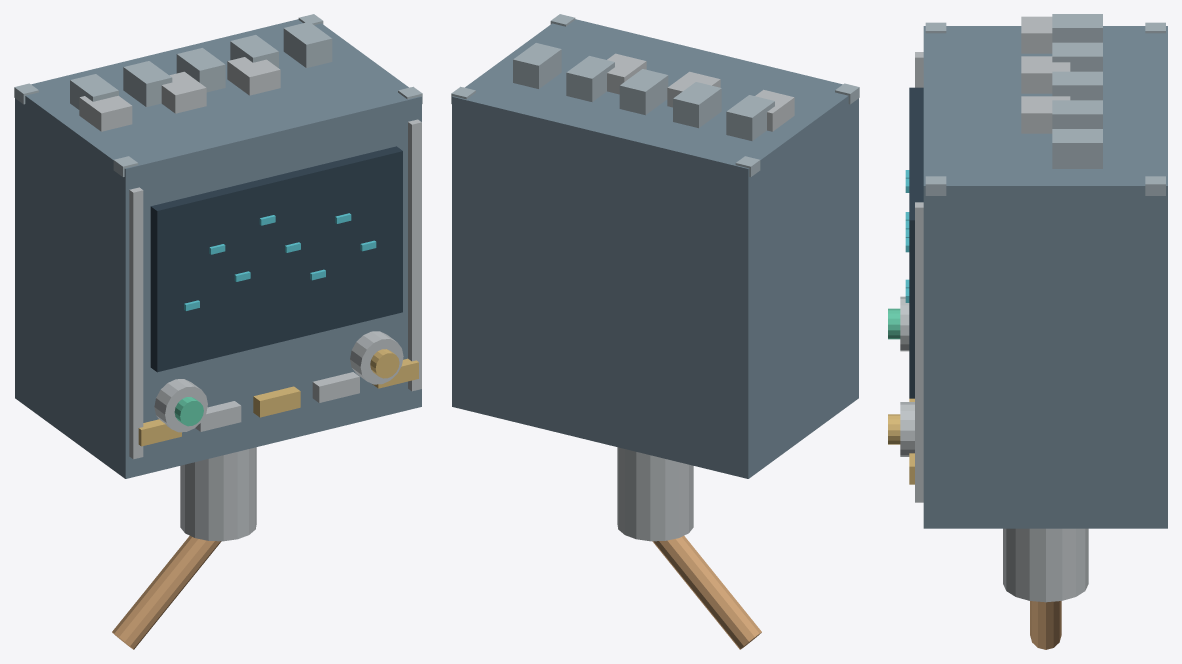
Rendered from 32_L76_BathConductivitySensor.glb.
The picture shows the model from 3 angles, left to right: view 1: azimuth 30°, elevation 25°; view 2: azimuth 150°, elevation 25°; view 3: azimuth 270°, elevation 25°; orthographic projection. The views are drawn at different scales.
Parts seen in each view (by area): view 1: BathConductivitySensor_Node_0000, BathConductivitySensor_Node_0007, BathConductivitySensor_Node_0034, BathConductivitySensor_Node_0005, BathConductivitySensor_Node_0035, BathConductivitySensor_Node_0006, BathConductivitySensor_Node_0028, BathConductivitySensor_Node_0023, BathConductivitySensor_Node_0025, BathConductivitySensor_Node_0019, BathConductivitySensor_Node_0017, BathConductivitySensor_Node_0021 (+10 smaller); view 2: BathConductivitySensor_Node_0000, BathConductivitySensor_Node_0034, BathConductivitySensor_Node_0035, BathConductivitySensor_Node_0026, BathConductivitySensor_Node_0025, BathConductivitySensor_Node_0028, BathConductivitySensor_Node_0027, BathConductivitySensor_Node_0024, BathConductivitySensor_Node_0023, BathConductivitySensor_Node_0021, BathConductivitySensor_Node_0022; view 3: BathConductivitySensor_Node_0000, BathConductivitySensor_Node_0034, BathConductivitySensor_Node_0007, BathConductivitySensor_Node_0006, BathConductivitySensor_Node_0028, BathConductivitySensor_Node_0024, BathConductivitySensor_Node_0027, BathConductivitySensor_Node_0026, BathConductivitySensor_Node_0035, BathConductivitySensor_Node_0022, BathConductivitySensor_Node_0025, BathConductivitySensor_Node_0023 (+6 smaller).
Boxes of the visible parts, <box> form: BathConductivitySensor_Node_0000: <box>15,19,421,478</box>; BathConductivitySensor_Node_0007: <box>150,146,402,372</box>; BathConductivitySensor_Node_0034: <box>180,447,256,541</box>; BathConductivitySensor_Node_0005: <box>129,187,143,459</box>; BathConductivitySensor_Node_0035: <box>112,536,221,649</box>; BathConductivitySensor_Node_0006: <box>408,119,421,391</box>; BathConductivitySensor_Node_0028: <box>283,22,332,67</box>; BathConductivitySensor_Node_0023: <box>227,57,280,95</box>; BathConductivitySensor_Node_0025: <box>123,61,172,107</box>; BathConductivitySensor_Node_0019: <box>350,331,403,384</box>; BathConductivitySensor_Node_0017: <box>154,379,207,432</box>; BathConductivitySensor_Node_0021: <box>79,95,132,131</box>; BathConductivitySensor_Node_0000: <box>452,19,858,478</box>; BathConductivitySensor_Node_0034: <box>617,447,693,541</box>; BathConductivitySensor_Node_0035: <box>652,536,761,649</box>; BathConductivitySensor_Node_0026: <box>619,69,668,115</box>; BathConductivitySensor_Node_0025: <box>673,82,721,128</box>; BathConductivitySensor_Node_0028: <box>513,43,561,88</box>; BathConductivitySensor_Node_0027: <box>566,56,614,101</box>; BathConductivitySensor_Node_0024: <box>726,95,774,140</box>; BathConductivitySensor_Node_0023: <box>607,53,646,94</box>; BathConductivitySensor_Node_0021: <box>755,89,794,131</box>; BathConductivitySensor_Node_0022: <box>667,71,720,107</box>; BathConductivitySensor_Node_0000: <box>923,26,1167,528</box>; BathConductivitySensor_Node_0034: <box>1003,528,1088,602</box>; BathConductivitySensor_Node_0007: <box>909,87,923,398</box>; BathConductivitySensor_Node_0006: <box>915,202,923,502</box>; BathConductivitySensor_Node_0028: <box>1052,129,1102,168</box>; BathConductivitySensor_Node_0024: <box>1052,14,1102,42</box>; BathConductivitySensor_Node_0027: <box>1052,100,1102,128</box>; BathConductivitySensor_Node_0026: <box>1052,71,1102,100</box>; BathConductivitySensor_Node_0035: <box>1030,601,1061,649</box>; BathConductivitySensor_Node_0022: <box>1021,56,1070,93</box>; BathConductivitySensor_Node_0025: <box>1052,42,1102,71</box>; BathConductivitySensor_Node_0023: <box>1021,96,1070,133</box>.
Size of the model in its own units: 0.6272 by 1.12 by 0.4585.
